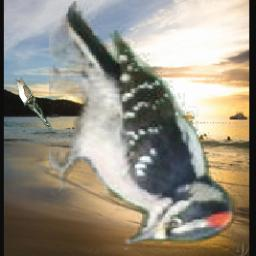Cuckoo: (12, 78, 53, 133)
Woodpecker: (50, 1, 239, 251)
